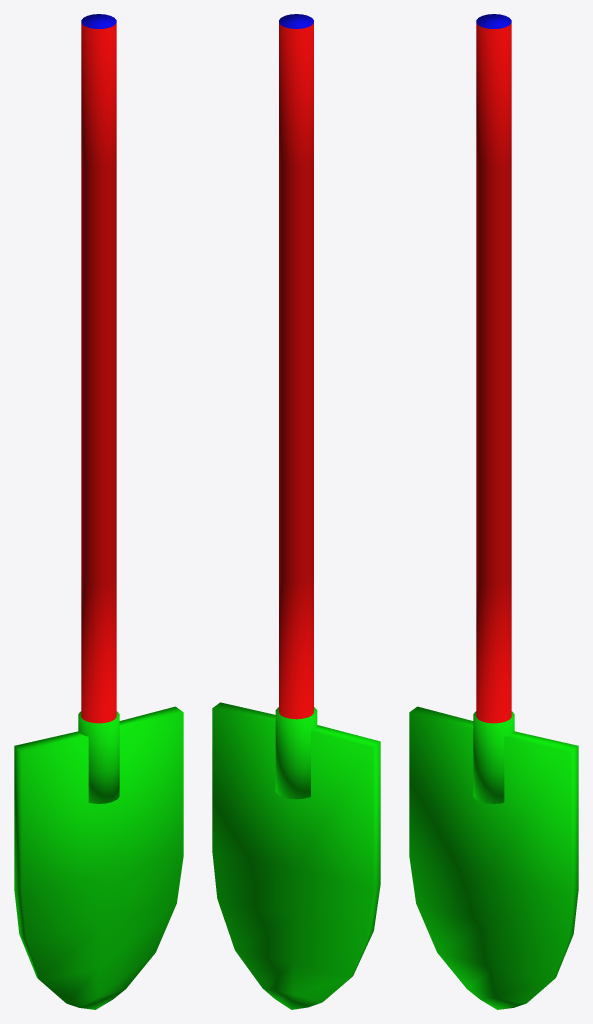
File: shovel_uvs.fbx
3 views of the same model, side by side, from view 1: azimuth 30°, elevation 25°; view 2: azimuth 150°, elevation 25°; view 3: azimuth 330°, elevation 25° (orthographic).
Visible parts, largest first — view 1: shovel:shovel:Box001; view 2: shovel:shovel:Box001; view 3: shovel:shovel:Box001.
Boxes of the visible parts, <box> form: shovel:shovel:Box001: <box>14,14,183,1009</box>; shovel:shovel:Box001: <box>212,14,380,1009</box>; shovel:shovel:Box001: <box>409,14,578,1009</box>.
Bounding box in the file's own units: 79.7 × 467 × 17.8.
